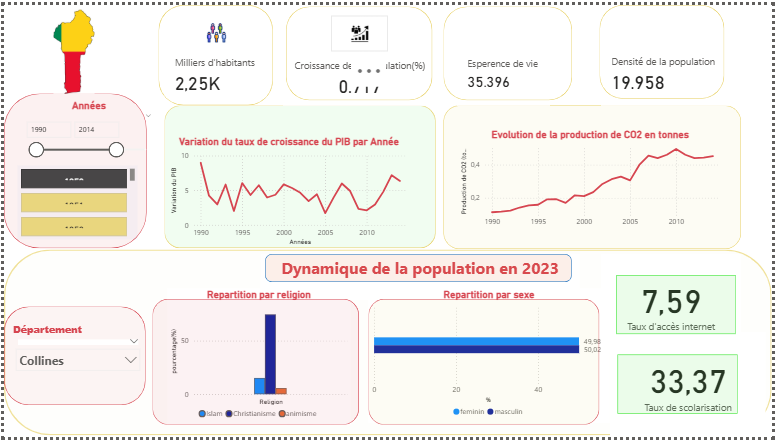

What the dashboard file says about the page in this screenshot:
{"tool":"powerbi","page":{"name":"Page 1","canvas":[1280,720],"ordinal":0},"visuals":[{"type":"shape","box":[0,406.7,1279.5,309.7],"z":0},{"type":"shape","box":[258.1,0,190.8,167.4],"z":1000},{"type":"shape","box":[0,503.7,236.2,164.2],"z":2000},{"type":"shape","box":[732,167.4,495.8,239.3],"z":3000},{"type":"shape","box":[267.5,167.4,452,237.8],"z":4000},{"type":"shape","box":[0,148.6,237.8,258.1],"z":5000},{"type":"lineChart","title":"Variation du taux de croissance du PIB par Année ","fields":{"Category":["PIB_CO2_production.Annee.Variation.Date Hierarchy.Year"],"Y":["Sum(PIB_CO2_production.PIB_croissance)"]},"box":[273.7,217.4,405.1,187.7],"z":6000},{"type":"lineChart","title":"Evolution de la production de CO2 en tonnes ","fields":{"Category":["PIB_CO2_production.Annee.Variation.Date Hierarchy.Year"],"Y":["Sum(PIB_CO2_production.CO2_tonnes)"]},"box":[755.5,204.9,444.2,173.6],"z":7000},{"type":"slicer","title":"Années","fields":{"Values":["PIB_CO2_production.Annee.Variation.Date Hierarchy.Year"]},"box":[25,158,233.1,112.6],"z":8000},{"type":"advancedSlicerVisual","fields":{"Values":["data_population_final.annee"]},"box":[23.5,267.5,200.2,123.6],"z":9000},{"type":"cardVisual","title":"Population en milliers","fields":{"Data":["Sum(data_population_final.population)"]},"box":[267.5,67.3,170.5,84.5],"z":10000},{"type":"cardVisual","title":"Taux de croissance de la population","fields":{"Data":["Min(data_population_final.taux_croissance_population_pourcentage)"]},"box":[464.6,72,256.5,95.4],"z":11000},{"type":"cardVisual","title":"Densité de la population","fields":{"Data":["Min(data_population_final.densite_population_personnes_km2)"]},"box":[994.8,59.4,225.2,107.9],"z":12000},{"type":"cardVisual","title":"Espérence de vie","fields":{"Data":["Min(data_population_final.esperance_vie_ans)"]},"box":[755.5,59.4,154.9,107.9],"z":13000},{"type":"textbox","box":[427,416.1,531.8,76.6],"z":14000},{"type":"shape","box":[434.8,416.1,511.5,46.9],"z":15000},{"type":"slicer","title":"Département ","fields":{"Values":["ehcvm_agg.departement"]},"box":[10.9,530.2,226.8,100.1],"z":16000},{"type":"clusteredBarChart","title":"Repartition par sexe","fields":{"Y":["Sum(ehcvm_agg.sexe_feminin)","Sum(ehcvm_agg.sexe_masculin)"]},"box":[608.5,472.4,402,223.7],"z":17000},{"type":"clusteredColumnChart","title":"Repartition par religion","fields":{"Y":["Sum(ehcvm_agg.religion_musulman)","Sum(ehcvm_agg.religion_chretien)","Sum(ehcvm_agg.religion_animiste)"]},"box":[273.7,472.4,305,226.8],"z":18000},{"type":"card","fields":{"Values":["Sum(ehcvm_agg.internet_pct)"]},"box":[994.8,416.1,233.1,164.2],"z":19000},{"type":"card","fields":{"Values":["Sum(ehcvm_agg.scol_pct)"]},"box":[1010.4,545.9,259.6,173.6],"z":20000},{"type":"shape","box":[248.7,489.6,344.1,209.6],"z":21000},{"type":"shape","box":[608.5,489.6,384.8,209.6],"z":22000},{"type":"shape","box":[1019.8,448.9,200.2,98.5],"z":23000},{"type":"shape","box":[1021.4,583.4,200.2,98.5],"z":24000},{"type":"shape","box":[469.2,1.6,244,156.4],"z":25000},{"type":"shape","box":[732,1.6,214.3,156.4],"z":26000},{"type":"shape","box":[991.7,0,208,156.4],"z":27000},{"type":"image","box":[317.5,25,73.5,42.2],"z":28000},{"type":"image","box":[544.3,17.2,95.4,59.4],"z":29000},{"type":"image","box":[0,1.6,233.1,150.2],"z":30000}]}

Visuals, with their boxes in screenshot pixels (x1, y1, x2, y2), scaled from the page's 1280x720 canvas onto the 778x442 screenshot:
shape: select_region(0, 250, 777, 440)
shape: select_region(157, 0, 273, 103)
shape: select_region(0, 309, 144, 410)
shape: select_region(445, 103, 746, 250)
shape: select_region(163, 103, 437, 249)
shape: select_region(0, 91, 145, 250)
"Variation du taux de croissance du PIB par Année " lineChart: select_region(166, 133, 413, 249)
"Evolution de la production de CO2 en tonnes " lineChart: select_region(459, 126, 729, 232)
"Années" slicer: select_region(15, 97, 157, 166)
advancedSlicerVisual - data_population_final.annee: select_region(14, 164, 136, 240)
"Population en milliers" cardVisual: select_region(163, 41, 266, 93)
"Taux de croissance de la population" cardVisual: select_region(282, 44, 438, 103)
"Densité de la population" cardVisual: select_region(605, 36, 742, 103)
"Espérence de vie" cardVisual: select_region(459, 36, 553, 103)
textbox: select_region(260, 255, 583, 302)
shape: select_region(264, 255, 575, 284)
"Département " slicer: select_region(7, 325, 144, 387)
"Repartition par sexe" clusteredBarChart: select_region(370, 290, 614, 427)
"Repartition par religion" clusteredColumnChart: select_region(166, 290, 352, 429)
card - Sum(ehcvm_agg.internet_pct): select_region(605, 255, 746, 356)
card - Sum(ehcvm_agg.scol_pct): select_region(614, 335, 772, 441)
shape: select_region(151, 301, 360, 429)
shape: select_region(370, 301, 604, 429)
shape: select_region(620, 276, 742, 336)
shape: select_region(621, 358, 743, 419)
shape: select_region(285, 1, 433, 97)
shape: select_region(445, 1, 575, 97)
shape: select_region(603, 0, 729, 96)
image: select_region(193, 15, 238, 41)
image: select_region(331, 11, 389, 47)
image: select_region(0, 1, 142, 93)
